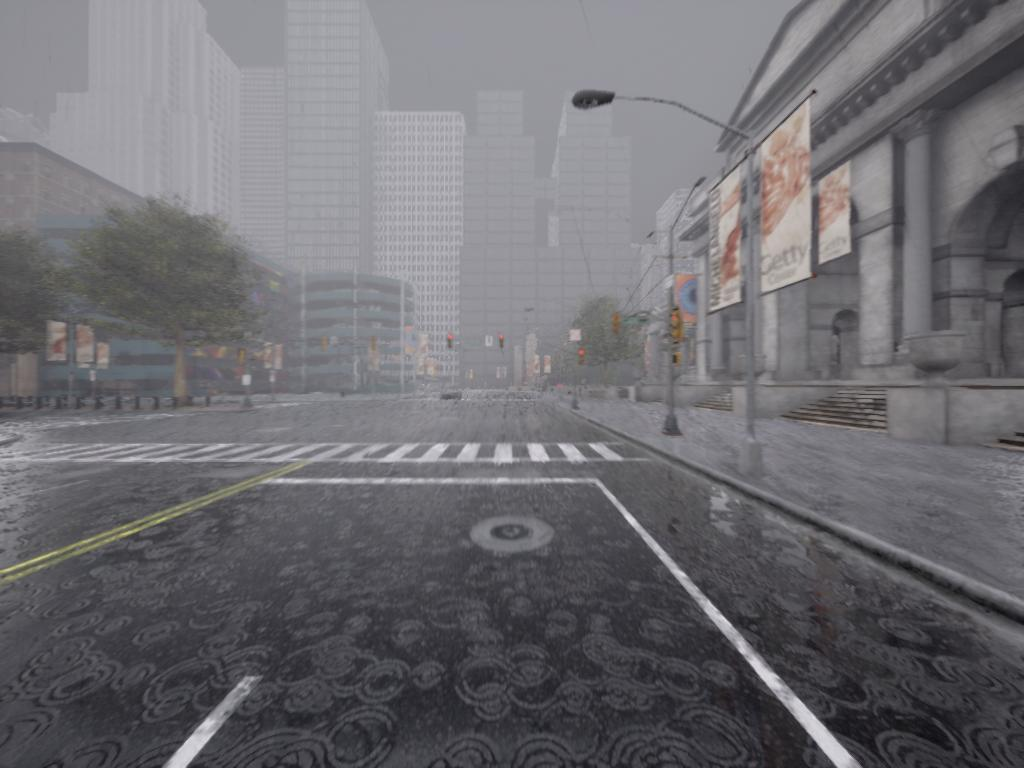traffic_light: (671, 312, 693, 343), (612, 315, 622, 336), (579, 350, 590, 366), (238, 349, 247, 368), (447, 334, 456, 348), (323, 334, 330, 351), (371, 337, 378, 353), (498, 335, 506, 348)
